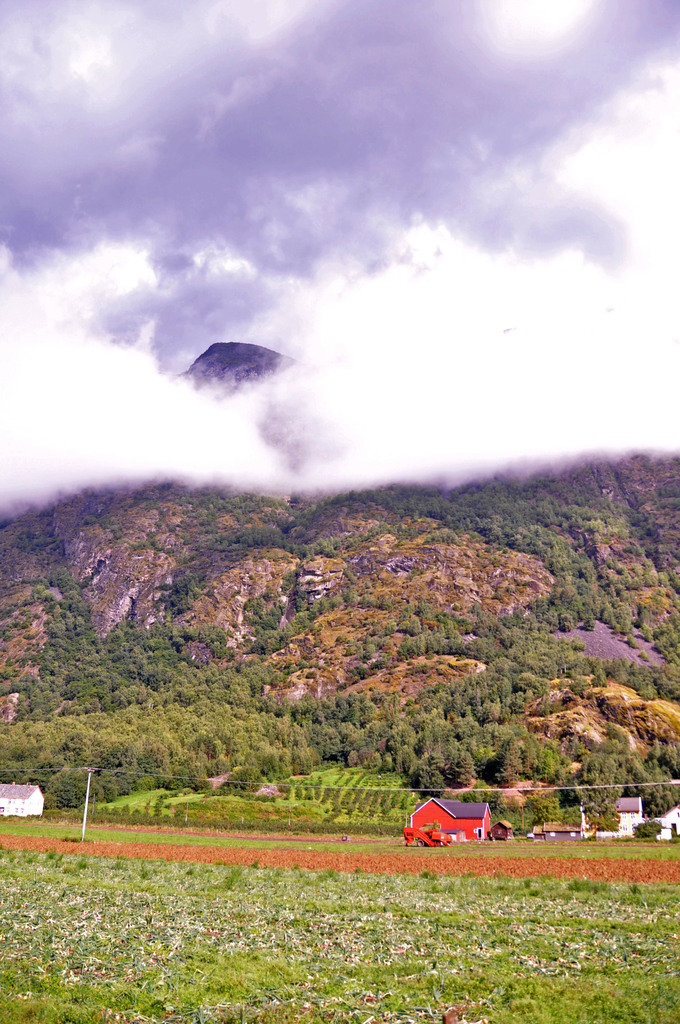Tree: (0, 478, 679, 835), (395, 746, 461, 807)
